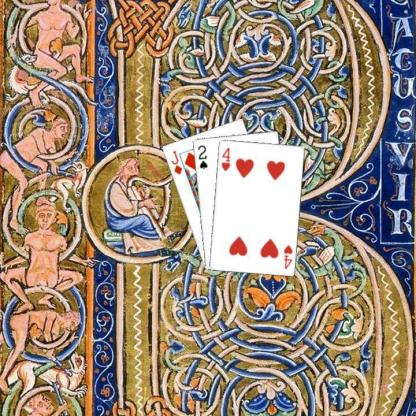2S: (195, 143, 209, 170)
4H: (281, 242, 293, 270), (219, 145, 231, 172)
JD: (168, 148, 183, 176)
